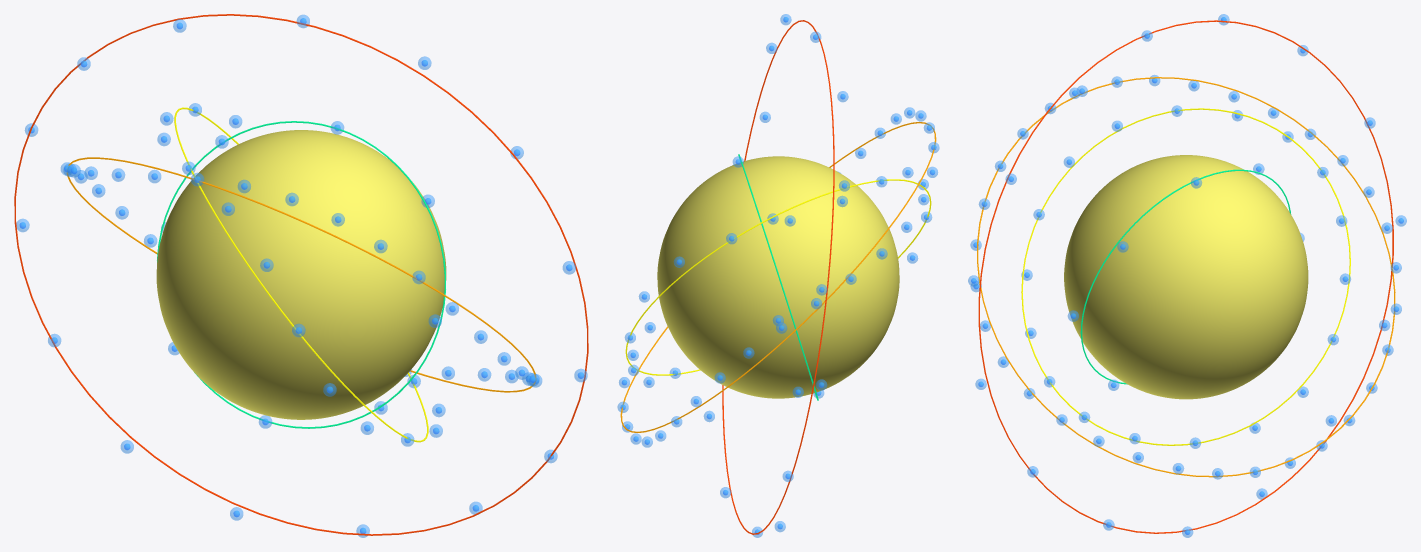
3 views of the same model, side by side, from view 1: azimuth 30°, elevation 25°; view 2: azimuth 150°, elevation 25°; view 3: azimuth 270°, elevation 25° (orthographic). The views are drawn at different scales.
Visible parts, largest first — view 1: Re, object 126, object 7, object 61, object 24; view 2: Re, object 126, object 61, object 24, object 7; view 3: Re, object 126, object 61, object 24, object 7.
Boxes of the visible parts, left/top/right/bottom form: Re: left=156, top=130, right=446, bottom=419; object 126: left=14, top=14, right=588, bottom=535; object 7: left=157, top=121, right=445, bottom=428; object 61: left=66, top=157, right=536, bottom=392; object 24: left=174, top=107, right=428, bottom=442; Re: left=657, top=156, right=899, bottom=398; object 126: left=722, top=20, right=834, bottom=534; object 61: left=620, top=122, right=936, bottom=432; object 24: left=625, top=179, right=931, bottom=375; object 7: left=738, top=154, right=818, bottom=400; Re: left=1064, top=155, right=1308, bottom=399; object 126: left=978, top=20, right=1393, bottom=533; object 61: left=977, top=77, right=1395, bottom=477; object 24: left=1021, top=108, right=1350, bottom=445; object 7: left=1080, top=169, right=1291, bottom=384.
Bounding box in the file's own units: 5.06 × 7.21 × 6.07.
